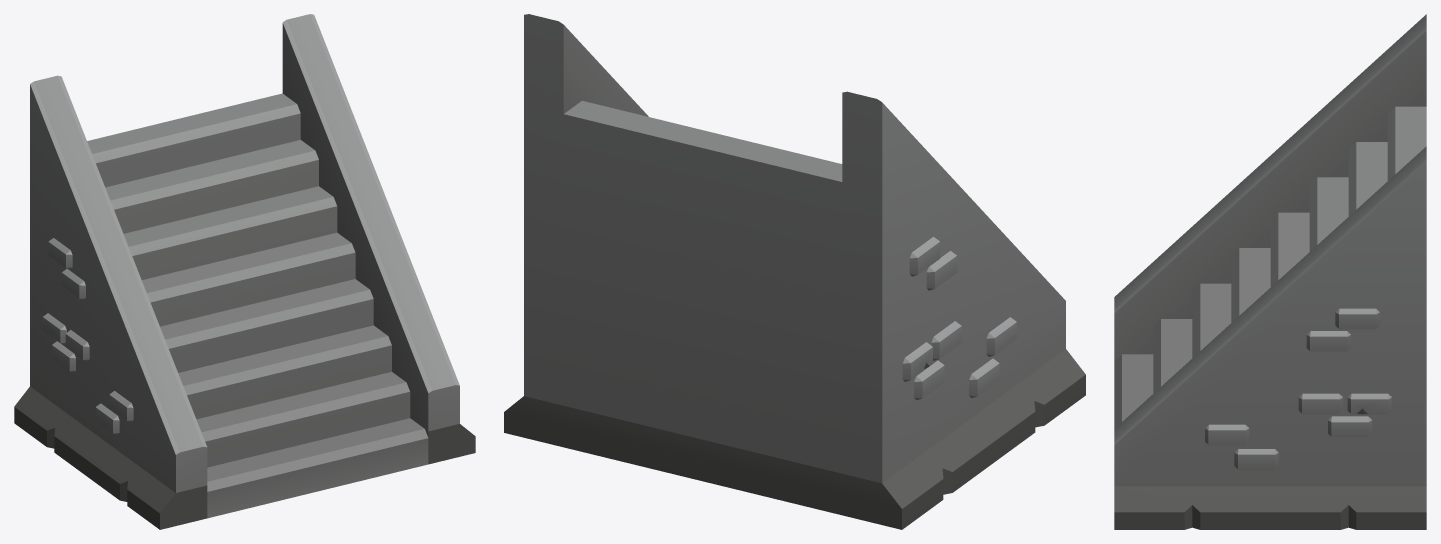
Rendered from kaykit_dungeon_stairs.glb.
3 views of the same model, side by side, from view 1: azimuth 30°, elevation 25°; view 2: azimuth 150°, elevation 25°; view 3: azimuth 270°, elevation 25° (orthographic). The views are drawn at different scales.
Parts seen in each view (by area): view 1: stairs; view 2: stairs; view 3: stairs.
Boxes of the visible parts, <box> form: stairs: <box>14,14,475,529</box>; stairs: <box>504,14,1085,529</box>; stairs: <box>1114,14,1426,529</box>.
Size of the model in its own units: 5 by 5.1 by 4.
Materials: 1 (1 with a texture image).
